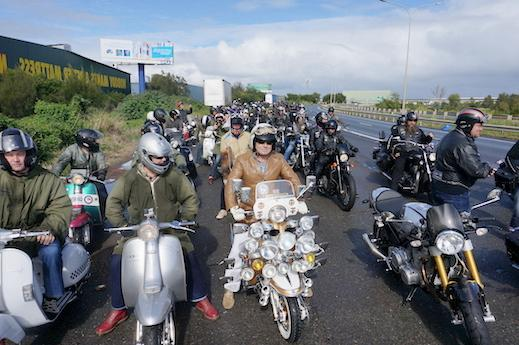With Helmet: (135, 130, 178, 177), (1, 123, 34, 176), (244, 121, 280, 165), (69, 122, 106, 153), (319, 110, 346, 138), (403, 108, 426, 130)
